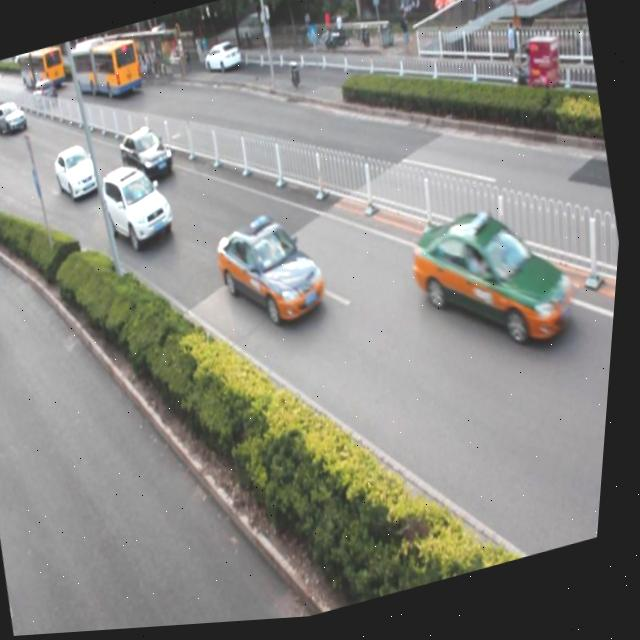car: (402, 192, 590, 380), (212, 202, 339, 343), (94, 156, 184, 262), (114, 121, 180, 193), (50, 138, 109, 206), (200, 38, 246, 83)
van: (64, 26, 147, 110)
